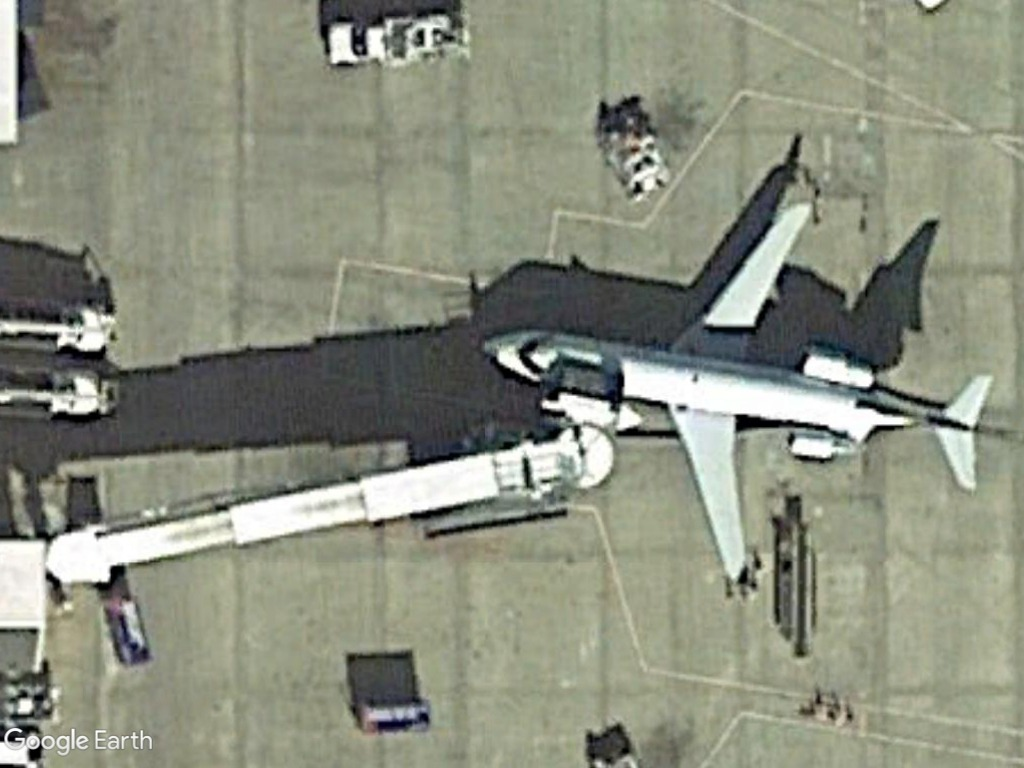chartered: (480, 174, 997, 599)
